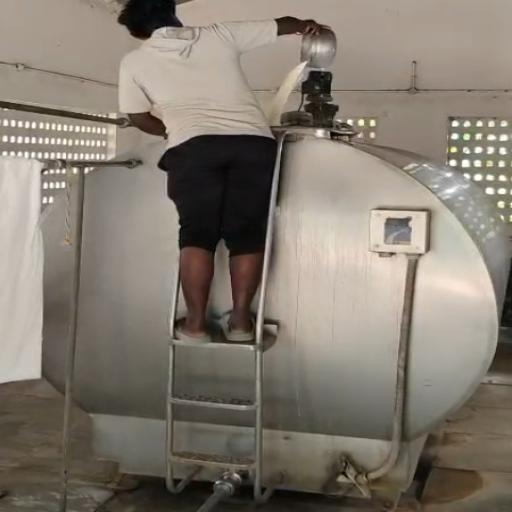silo: (40, 125, 511, 496)
vessel: (299, 27, 338, 69)
